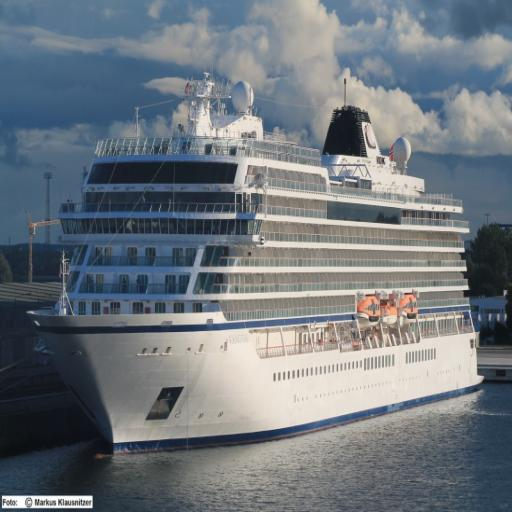cruises: (23, 65, 488, 465)
